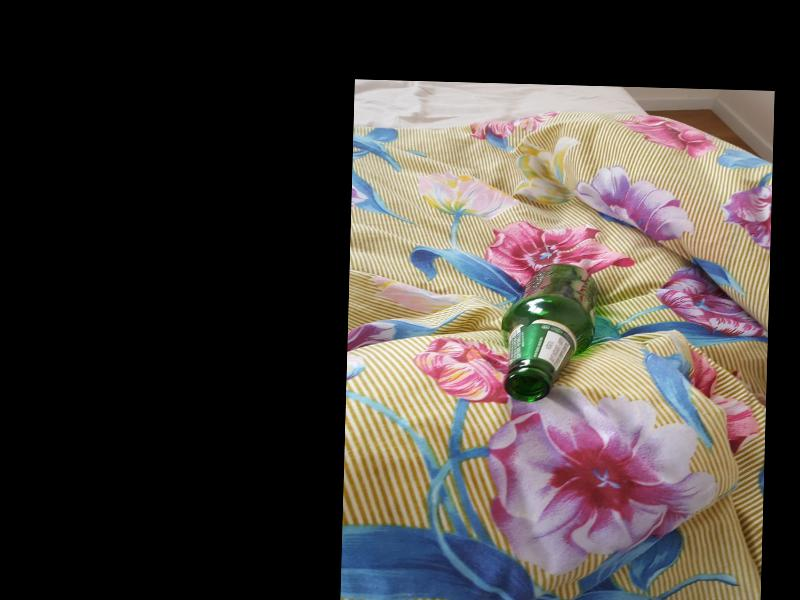Beer: (500, 262, 593, 403)
